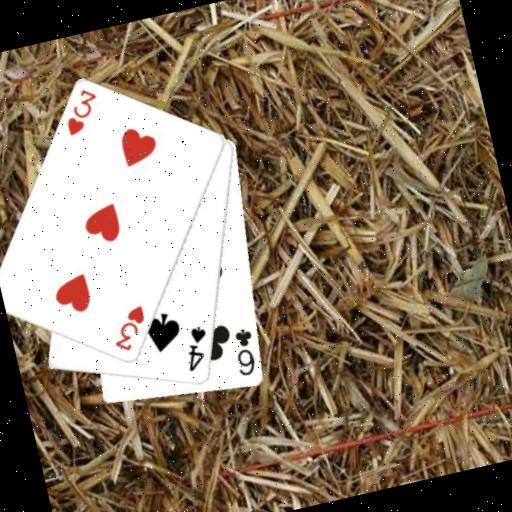3H: (56, 84, 106, 139), (104, 302, 154, 356)
4S: (177, 322, 216, 374)
6C: (227, 325, 263, 380)
